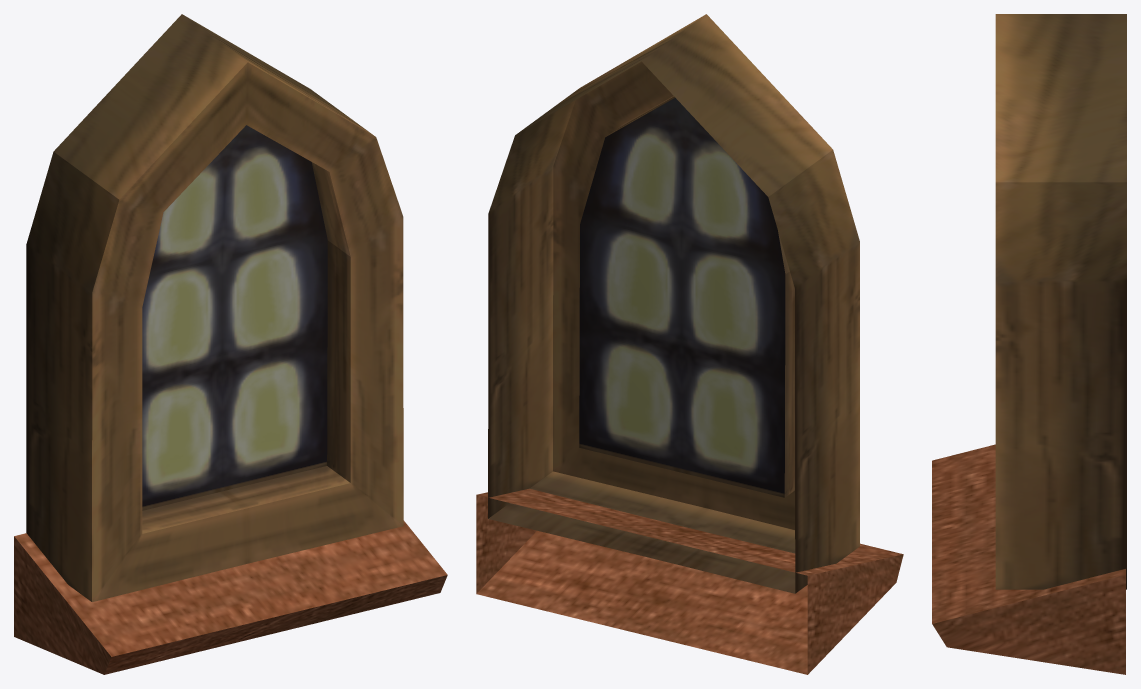
The model's file is fanasty_mod_window01.fbx.
3 renders of one model, left to right at view 1: azimuth 30°, elevation 25°; view 2: azimuth 150°, elevation 25°; view 3: azimuth 270°, elevation 25°, orthographic.
Parts seen in each view (by area): view 1: window_01; view 2: window_01; view 3: window_01.
Boxes of the visible parts, box(x1,y1,x2,y2) form: window_01: box(14, 14, 447, 674); window_01: box(476, 14, 903, 674); window_01: box(932, 14, 1126, 674).
Bounding box in the file's own units: 1.05 × 1.73 × 0.5261.
